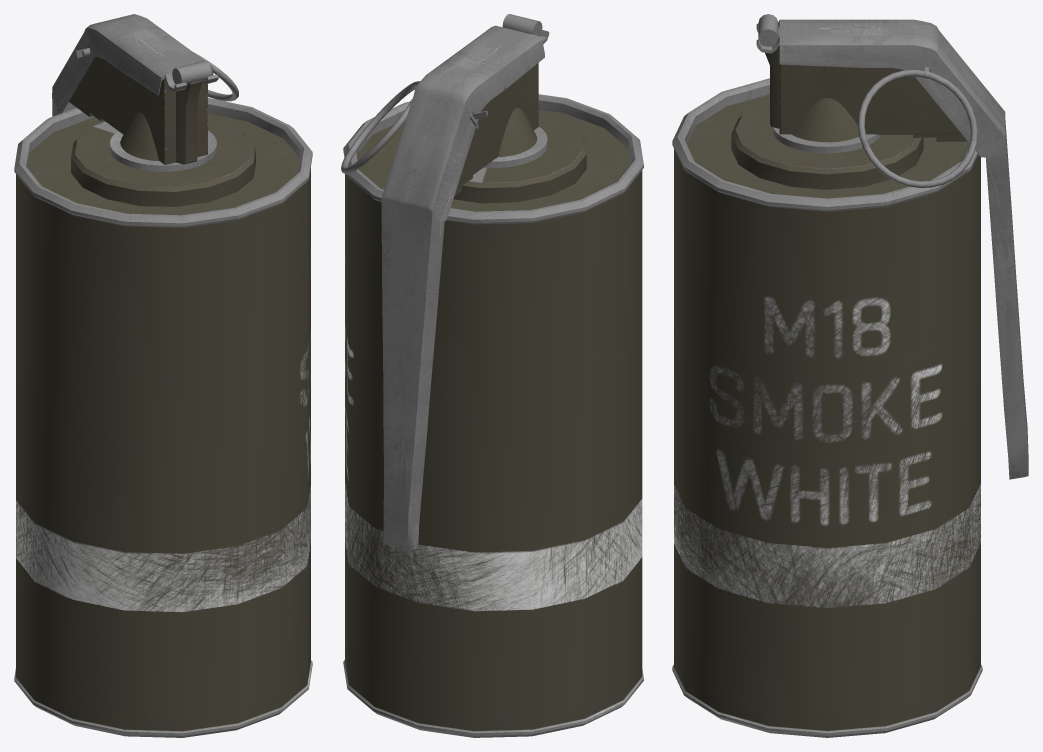
The model's file is grenade_smoke.gltf.
3 renders of one model, left to right at view 1: azimuth 30°, elevation 25°; view 2: azimuth 150°, elevation 25°; view 3: azimuth 270°, elevation 25°, orthographic. The views are drawn at different scales.
Visible parts, largest first — view 1: Body, Pin; view 2: Body, Pin; view 3: Body, Pin.
Boxes of the visible parts, x1,y1,x2,y2 form: Body: [14, 14, 312, 737]; Pin: [74, 48, 238, 101]; Body: [343, 14, 643, 737]; Pin: [341, 81, 487, 174]; Body: [672, 14, 1028, 737]; Pin: [858, 67, 977, 187].
Size of the model in its own units: 0.0653 by 0.1513 by 0.0749.
1 material, 1 textured.
